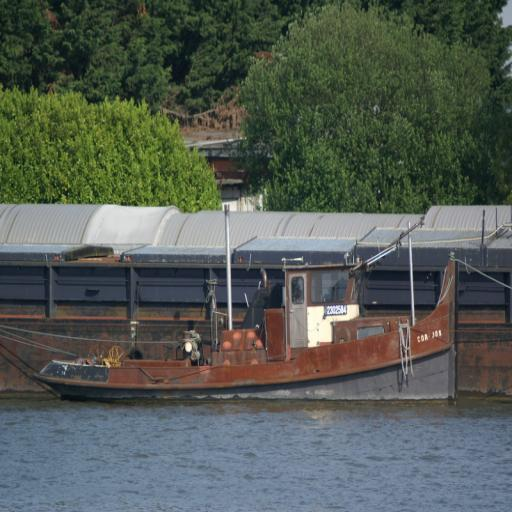tugboat: (30, 251, 469, 428)
